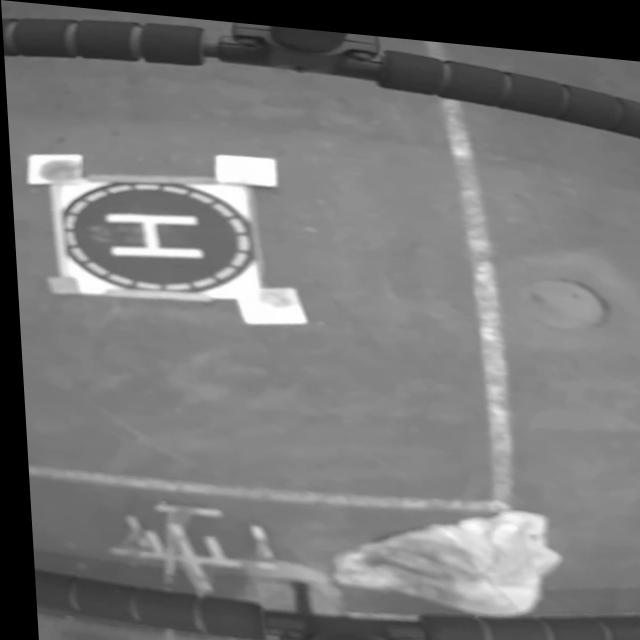Helipad: (100, 211, 201, 255)
